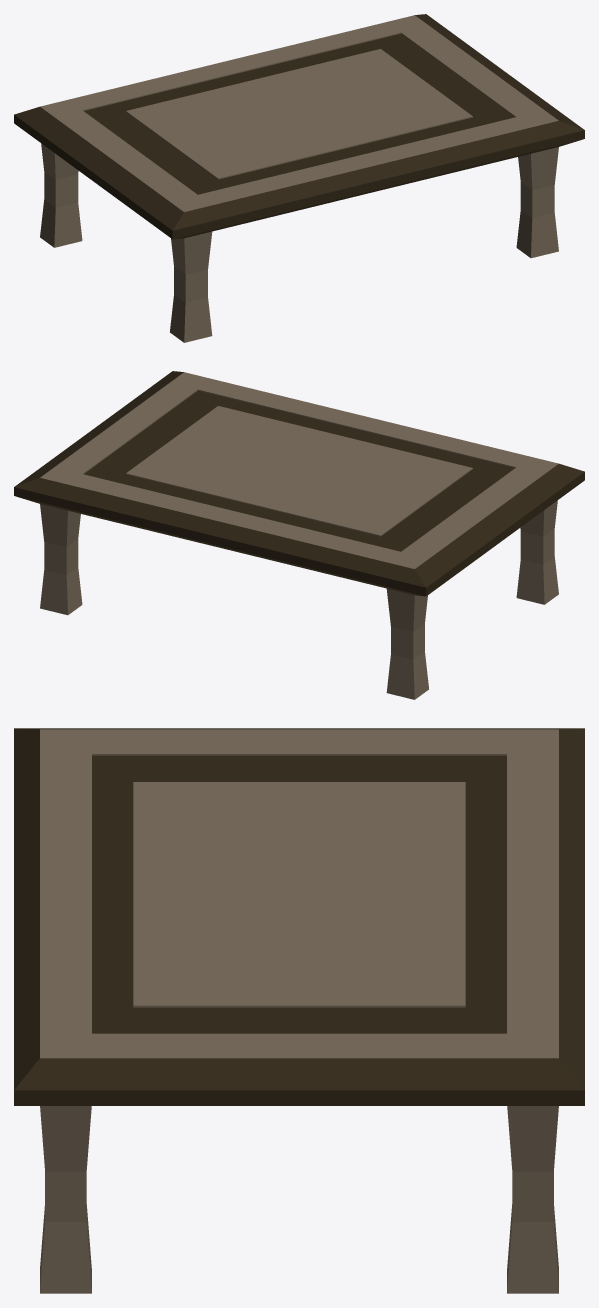
Rendered from Coffee Table.fbx.
3 views of the same model, one above another, from view 1: azimuth 30°, elevation 25°; view 2: azimuth 150°, elevation 25°; view 3: azimuth 270°, elevation 25° (orthographic). The views are drawn at different scales.
Visible parts, largest first — view 1: Coffee Table; view 2: Coffee Table; view 3: Coffee Table.
Part boxes in pixels (<box>): Coffee Table: <box>14,14,584,342</box>; Coffee Table: <box>14,371,584,699</box>; Coffee Table: <box>14,728,584,1293</box>.
Size of the model in its own units: 3300 by 1000 by 2200.
